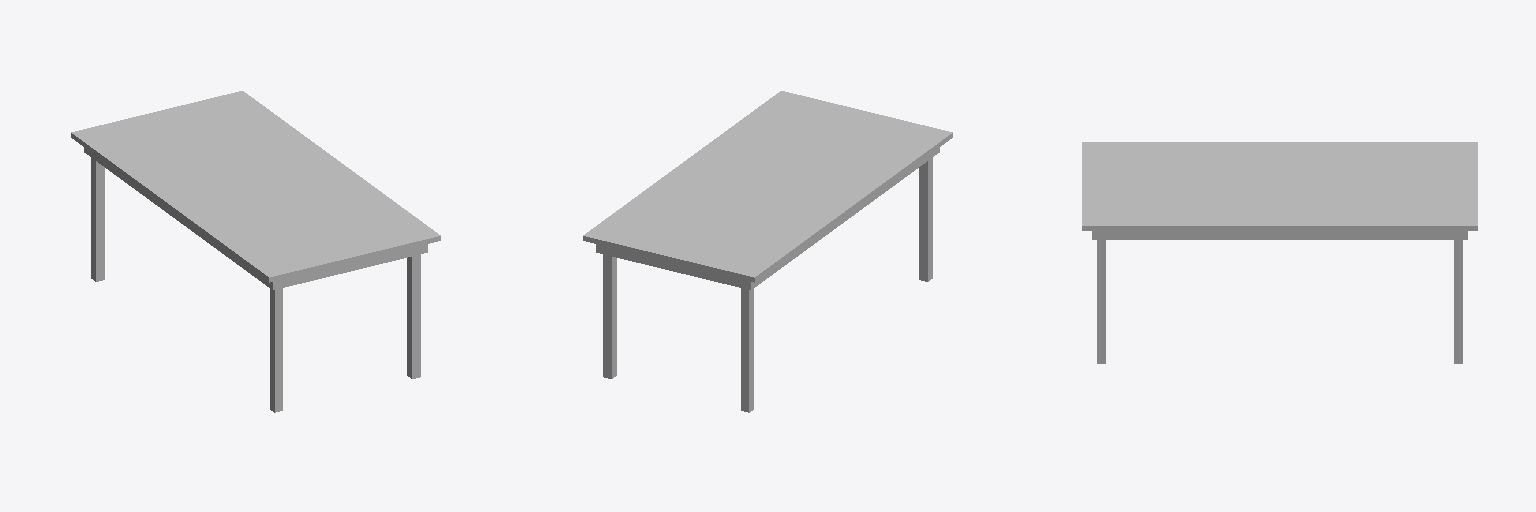
The model's file is table.obj.
The picture shows the model from 3 angles: view 1: azimuth 30°, elevation 25°; view 2: azimuth 150°, elevation 25°; view 3: azimuth 270°, elevation 25°; orthographic projection.
Visible parts, largest first — view 1: table_Torus; view 2: table_Torus; view 3: table_Torus.
Boxes of the visible parts, x1=… form: table_Torus: x1=71, y1=91, x2=440, y2=412; table_Torus: x1=583, y1=91, x2=952, y2=412; table_Torus: x1=1082, y1=142, x2=1477, y2=363.
Bounding box in the file's own units: 9.2 × 7.36 × 18.4.